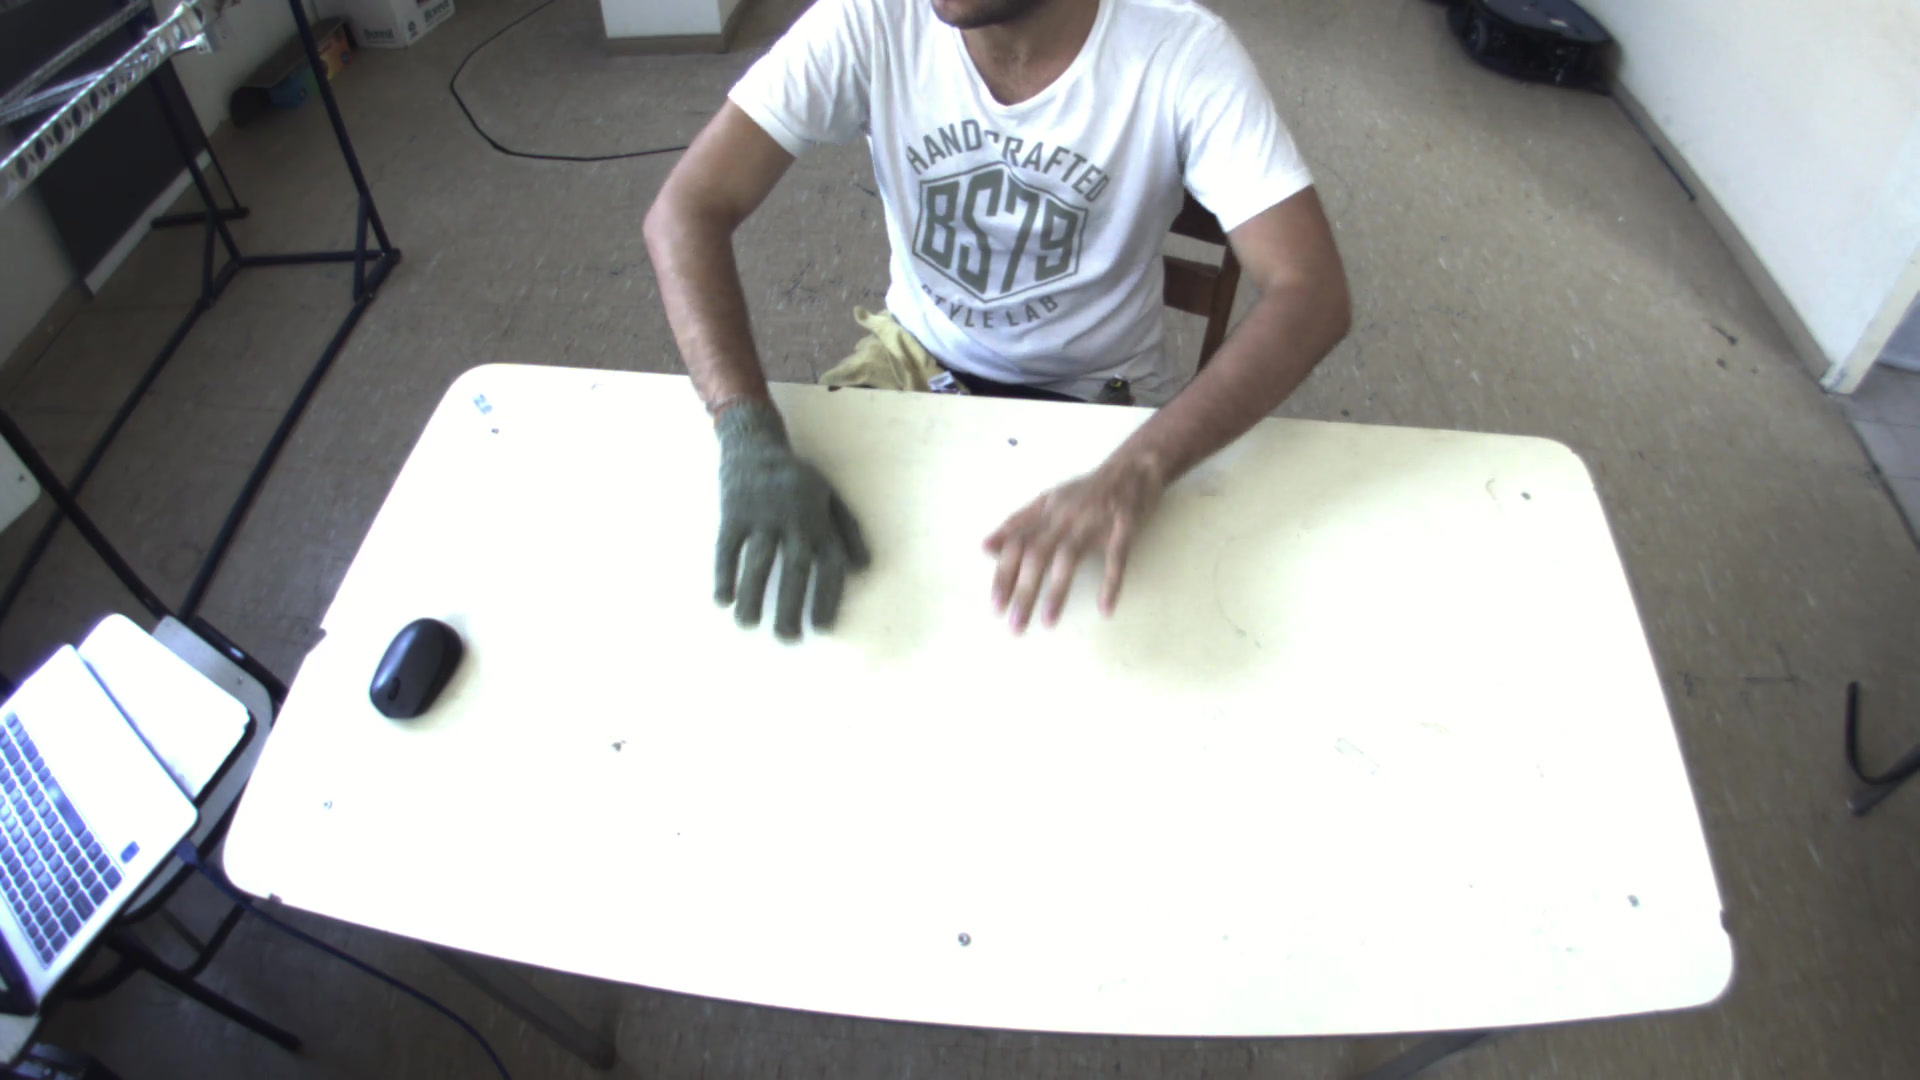hand: (692, 382, 869, 647), (978, 447, 1163, 633)
